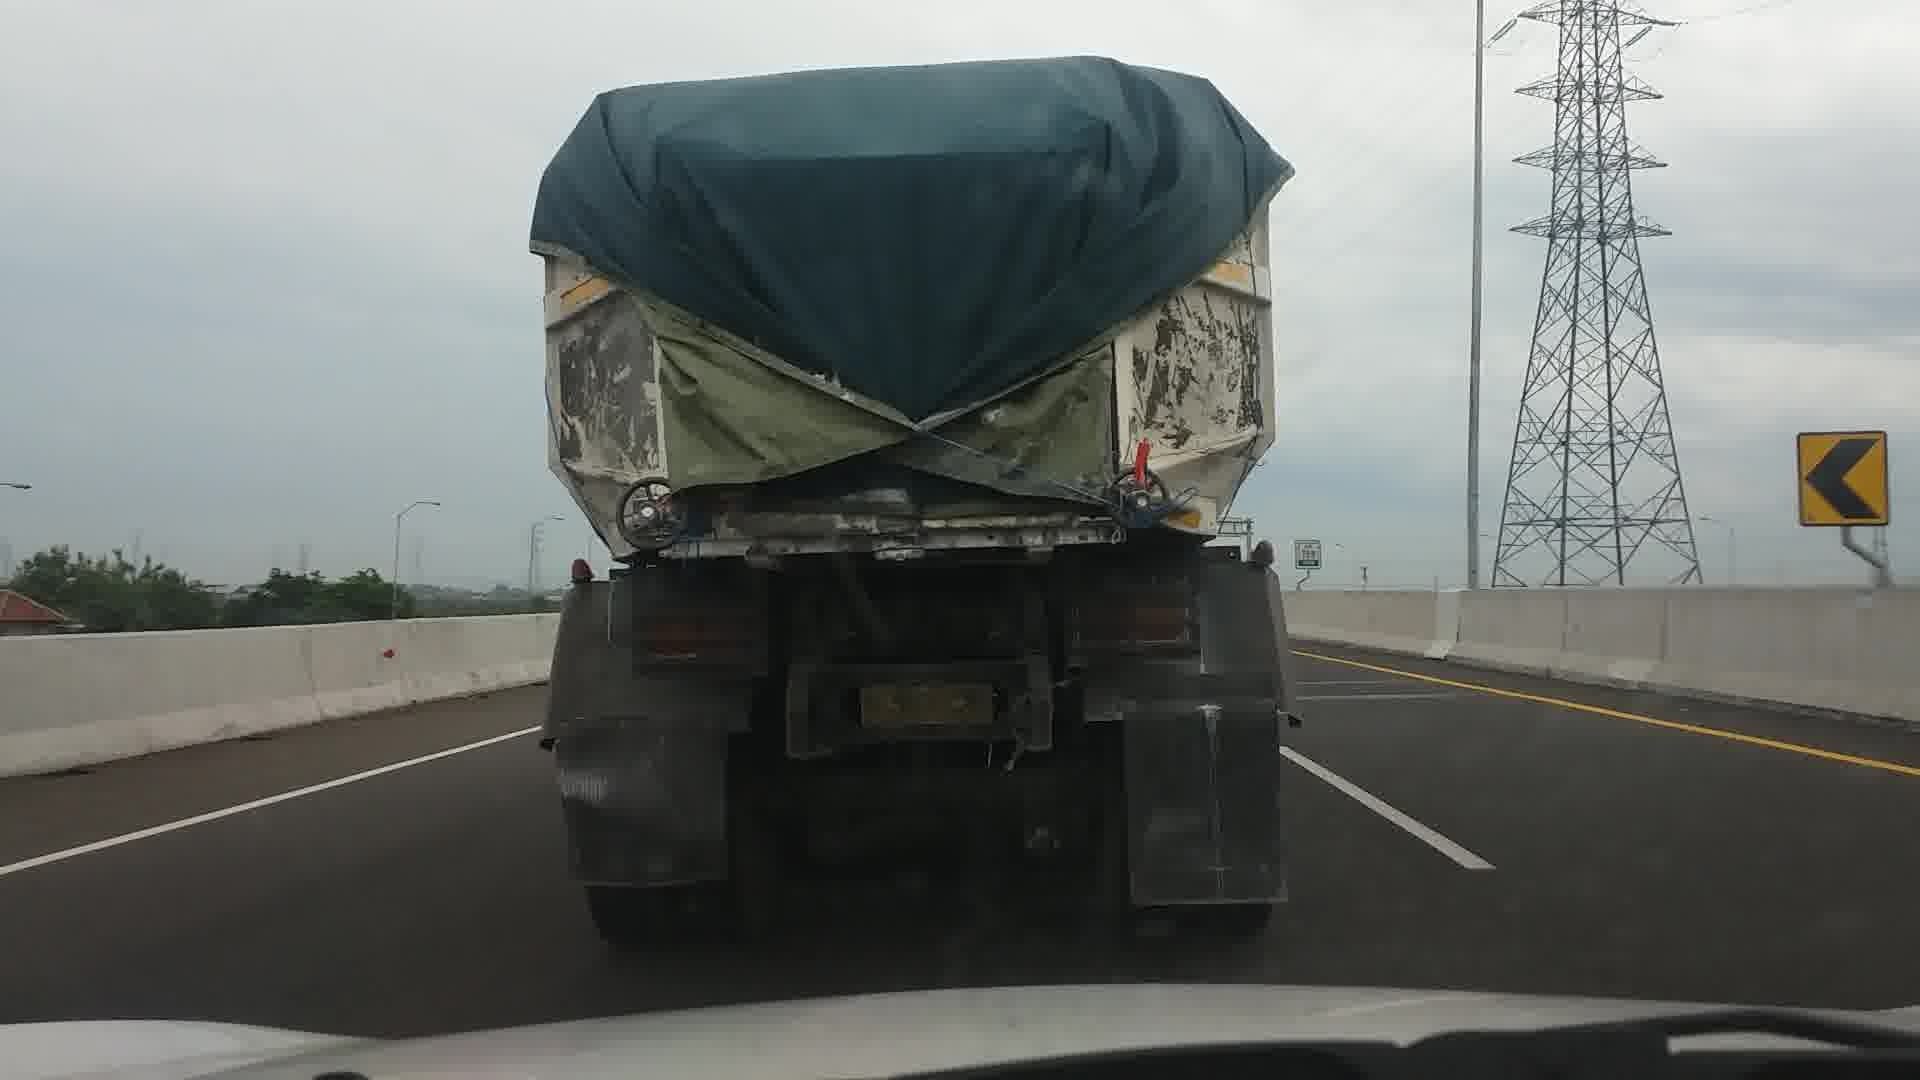plate_positive: (856, 683, 993, 725)
